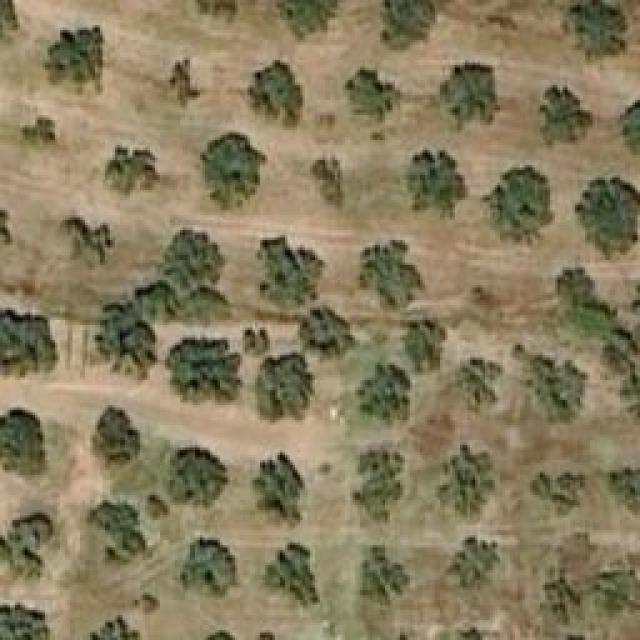Tree: (513, 345, 588, 420), (483, 165, 553, 243), (575, 178, 640, 261), (200, 133, 265, 213), (95, 302, 158, 380), (165, 338, 240, 403), (355, 240, 423, 310), (253, 237, 323, 305), (150, 230, 230, 288), (87, 503, 155, 568), (43, 25, 106, 95), (405, 150, 468, 220), (173, 538, 243, 601), (437, 445, 495, 520), (558, 267, 621, 335), (353, 445, 406, 523), (440, 62, 500, 130), (255, 352, 315, 420), (245, 60, 303, 128), (0, 307, 55, 375), (355, 363, 413, 426), (105, 145, 178, 195), (253, 453, 303, 523), (0, 512, 52, 579), (168, 447, 228, 505), (540, 85, 593, 148), (265, 543, 318, 606), (342, 68, 400, 123), (0, 407, 45, 475), (300, 303, 355, 358), (565, 3, 620, 58), (362, 545, 410, 608), (92, 405, 140, 465), (52, 217, 110, 265), (528, 473, 591, 516), (445, 537, 500, 585), (378, 0, 431, 48), (400, 318, 445, 373), (152, 58, 200, 108), (455, 358, 503, 408), (592, 570, 640, 618), (0, 602, 50, 640), (183, 287, 233, 325), (547, 577, 585, 625), (135, 283, 175, 326), (277, 0, 330, 32), (610, 460, 640, 515), (313, 160, 346, 208), (10, 118, 60, 148), (620, 98, 640, 161), (87, 617, 140, 640), (184, 0, 237, 22), (243, 328, 273, 358)
